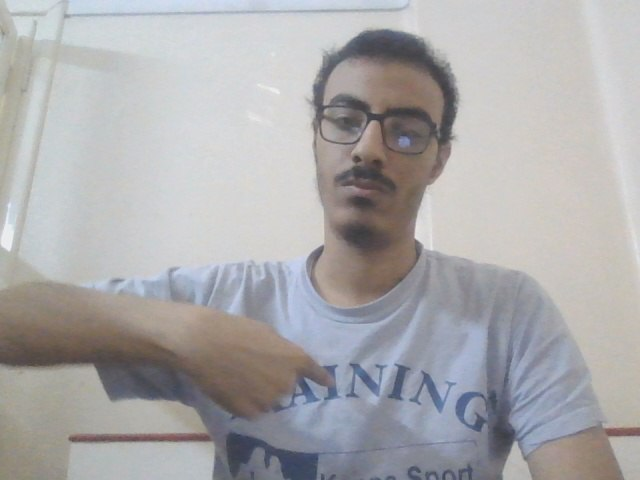Me: (166, 288, 348, 425)
